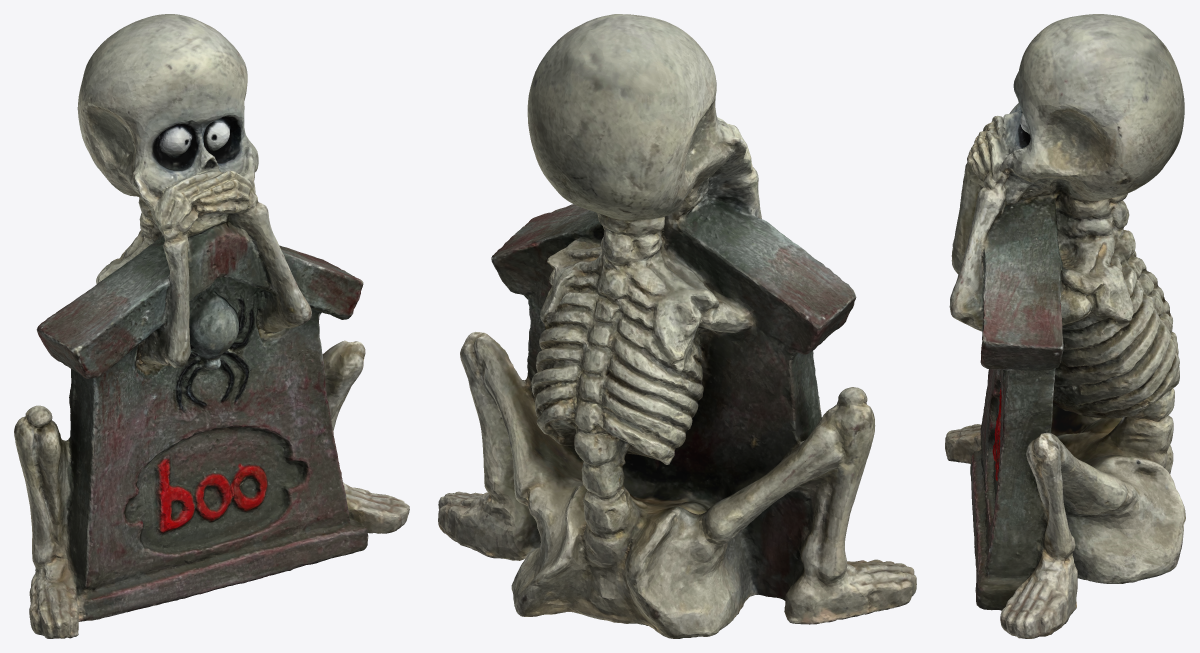
The model's file is metascan_20230826-0816.obj.
3 views of the same model, side by side, from view 1: azimuth 30°, elevation 25°; view 2: azimuth 150°, elevation 25°; view 3: azimuth 270°, elevation 25° (orthographic). The views are drawn at different scales.
Parts seen in each view (by area): view 1: mesh_0; view 2: mesh_0; view 3: mesh_0.
Part boxes in pixels (bbox=[...]): mesh_0: bbox=[14, 14, 409, 638]; mesh_0: bbox=[438, 14, 916, 638]; mesh_0: bbox=[945, 14, 1185, 638].
Bounding box in the file's own units: 0.603 × 0.7546 × 0.314.
1 material, 1 textured.
